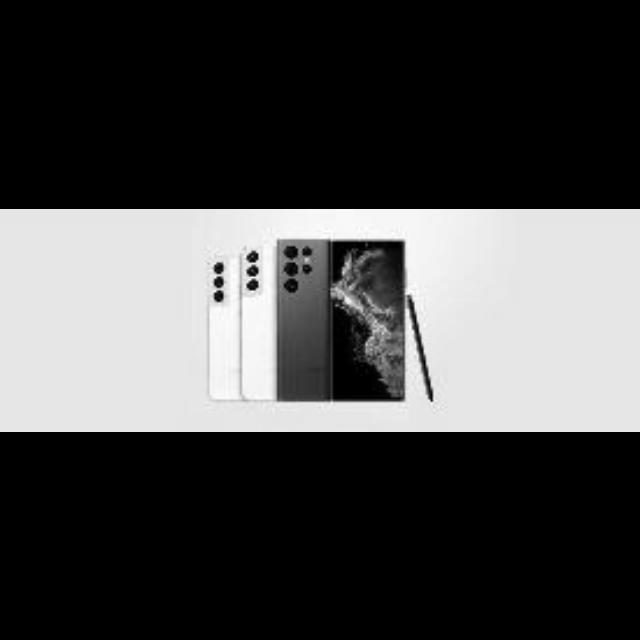fake: (311, 225, 430, 430)
